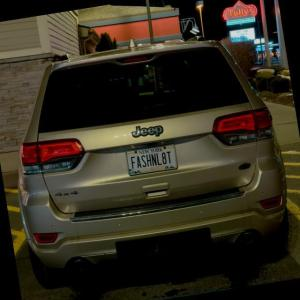Plate: (124, 143, 178, 176)
